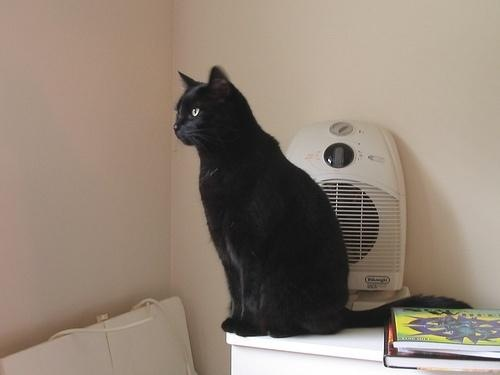cat: (172, 66, 479, 339)
